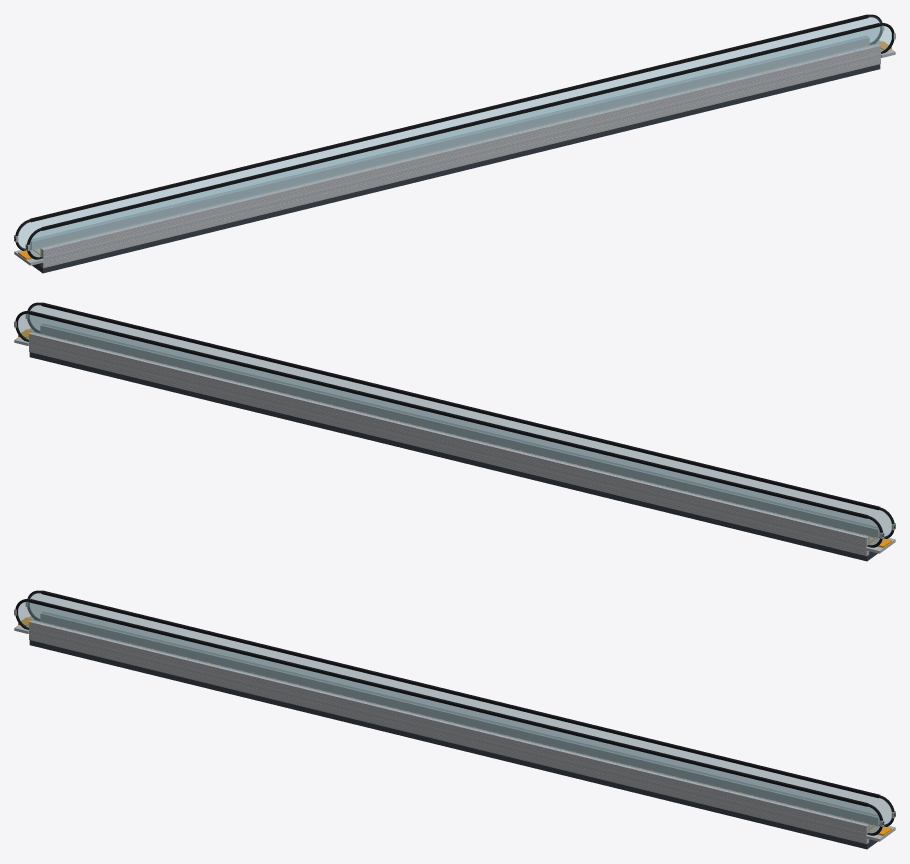
Rendered from walkway.glb.
3 renders of one model, top to bottom at view 1: azimuth 30°, elevation 25°; view 2: azimuth 150°, elevation 25°; view 3: azimuth 330°, elevation 25°, orthographic.
Visible parts, largest first — view 1: escalator-balustrade (×2), side-skirt (×2), canonical-yaw, truss; view 2: escalator-balustrade (×2), side-skirt (×2), canonical-yaw, truss; view 3: escalator-balustrade (×2), side-skirt (×2), canonical-yaw, truss.
Part boxes in pixels (x1=…): escalator-balustrade (×2): x1=18, y1=16, x2=891, y2=257; side-skirt (×2): x1=30, y1=36, x2=880, y2=268; canonical-yaw: x1=15, y1=14, x2=894, y2=259; truss: x1=32, y1=64, x2=880, y2=273; escalator-balustrade (×2): x1=18, y1=304, x2=891, y2=545; side-skirt (×2): x1=29, y1=324, x2=879, y2=556; canonical-yaw: x1=15, y1=302, x2=894, y2=547; truss: x1=29, y1=352, x2=877, y2=561; escalator-balustrade (×2): x1=18, y1=592, x2=891, y2=833; side-skirt (×2): x1=29, y1=612, x2=879, y2=844; canonical-yaw: x1=15, y1=590, x2=894, y2=835; truss: x1=29, y1=640, x2=877, y2=849.
Bounding box in the file's own units: 31.11 × 1.55 × 1.
7 materials, 1 textured.
